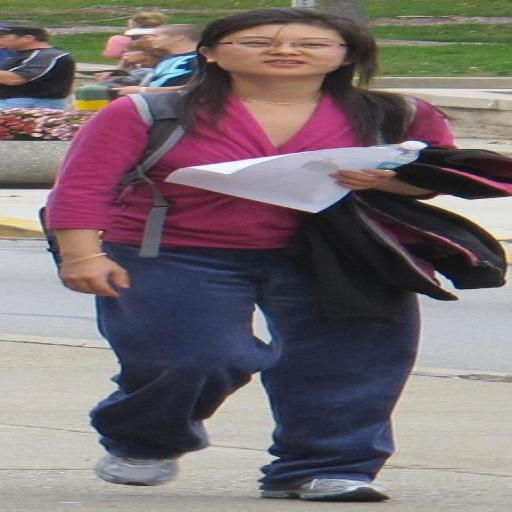person: (48, 8, 491, 501), (73, 39, 164, 109), (0, 26, 75, 109), (114, 24, 201, 94), (102, 12, 167, 58)
